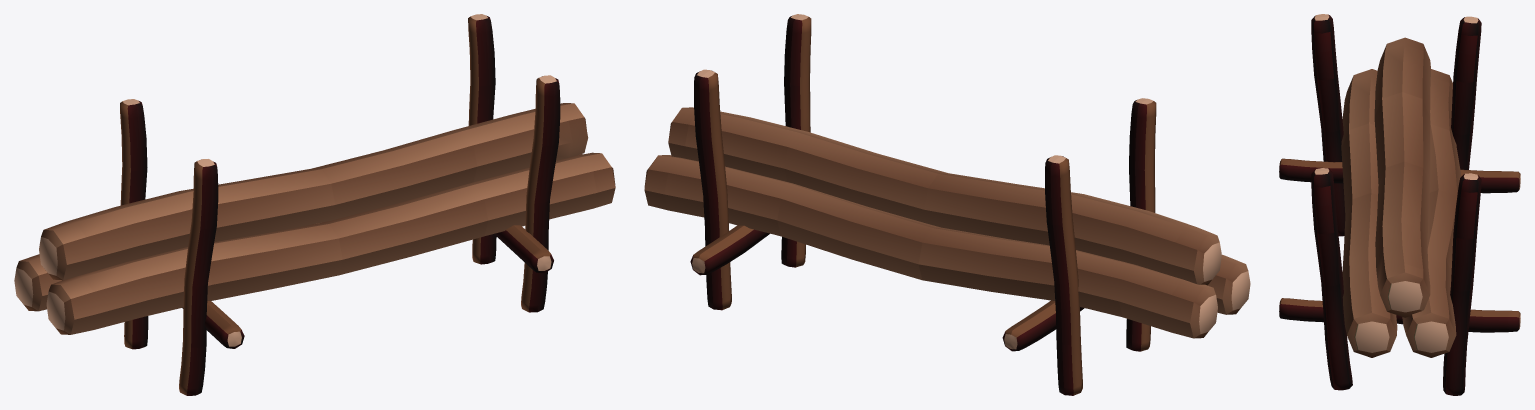
File: PileOfWood-1.glb
3 views of the same model, side by side, from view 1: azimuth 30°, elevation 25°; view 2: azimuth 150°, elevation 25°; view 3: azimuth 270°, elevation 25° (orthographic). The views are drawn at different scales.
Visible parts, largest first — view 1: PileOfWood-1-col; view 2: PileOfWood-1-col; view 3: PileOfWood-1-col.
Part boxes in pixels (box(x1,y1,x2,y2)): PileOfWood-1-col: box(14, 14, 615, 395); PileOfWood-1-col: box(644, 14, 1250, 395); PileOfWood-1-col: box(1279, 14, 1520, 395).
Size of the model in its own units: 7.11 by 2.93 by 2.93.
1 material, 1 textured.
